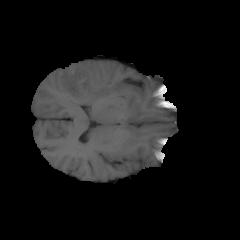glioma: (56, 63, 114, 108)
